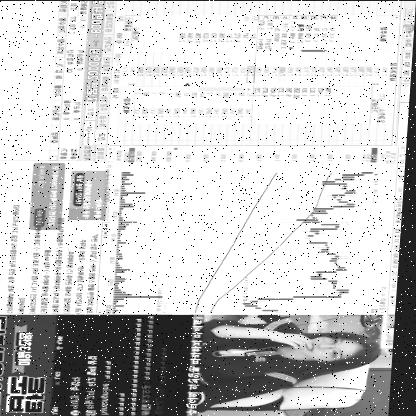streamer: (202, 314, 387, 411)
